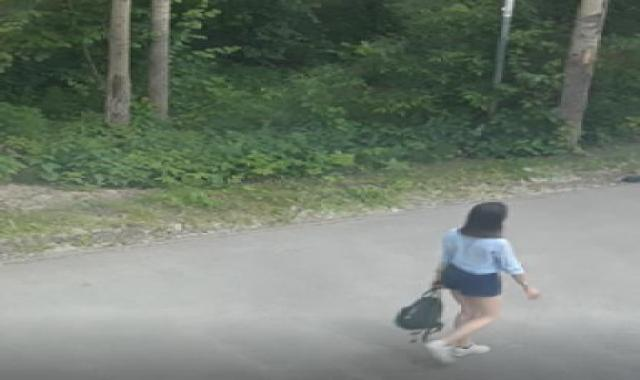no_hairnet: (459, 198, 517, 238)
